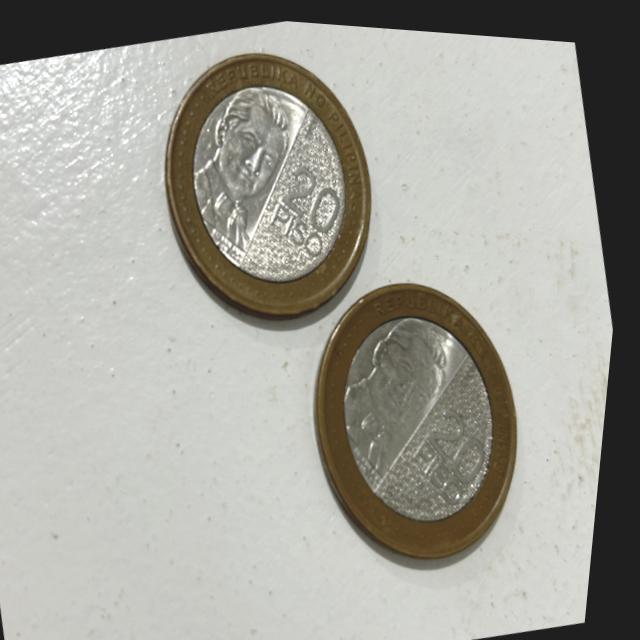20_New_Front: (255, 143, 361, 267), (403, 390, 507, 508)
